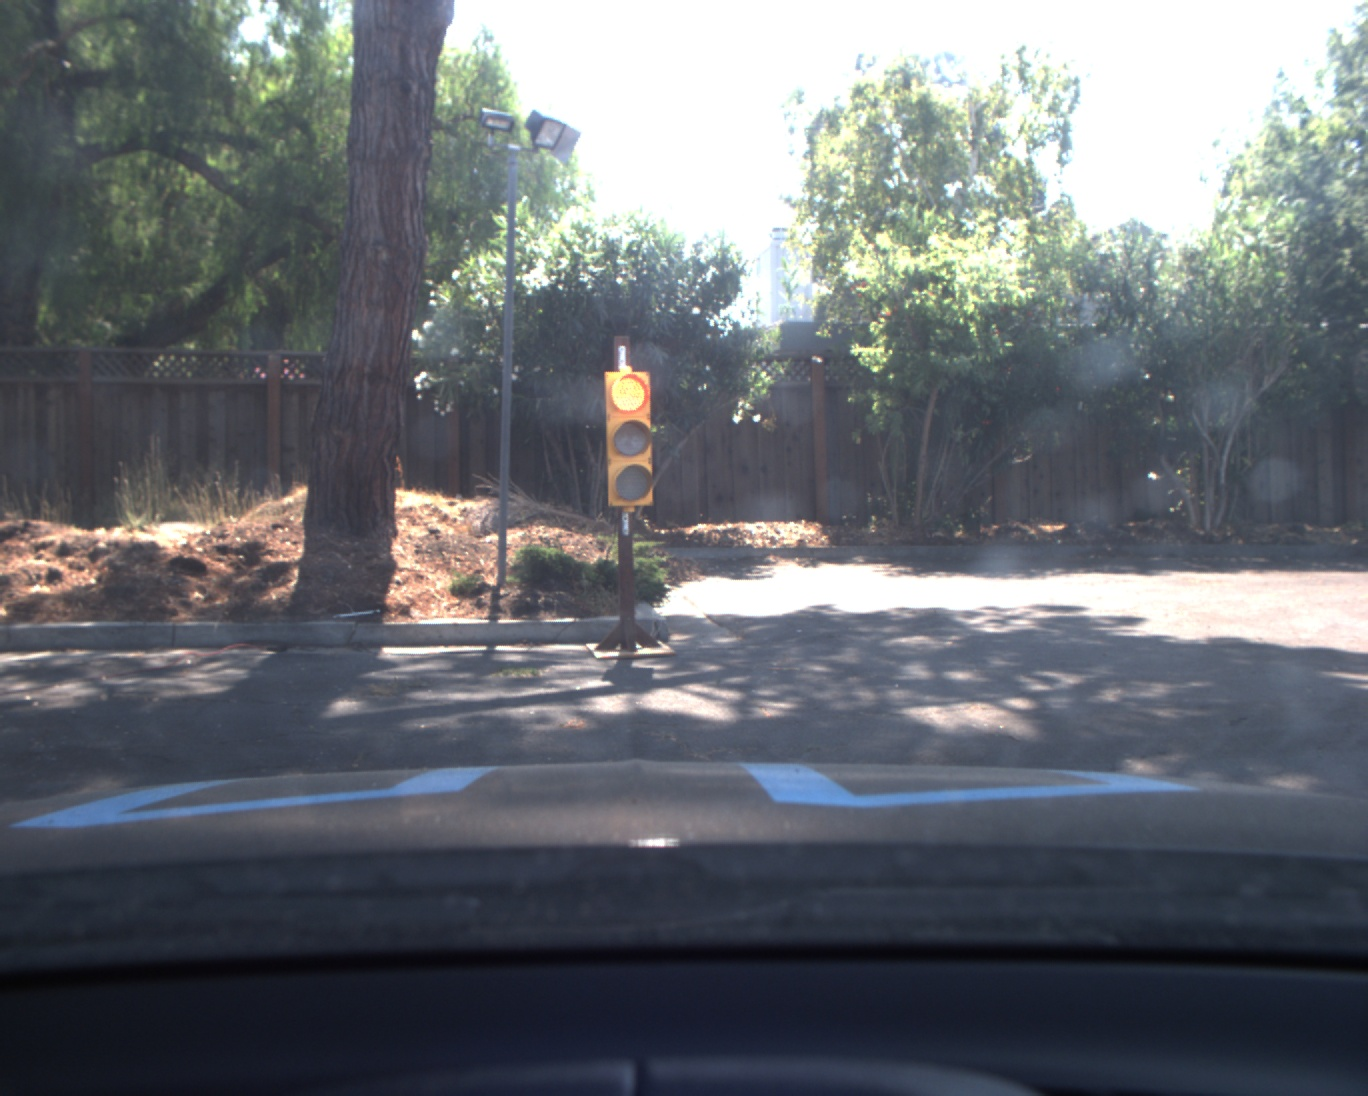red: (605, 371, 652, 504)
